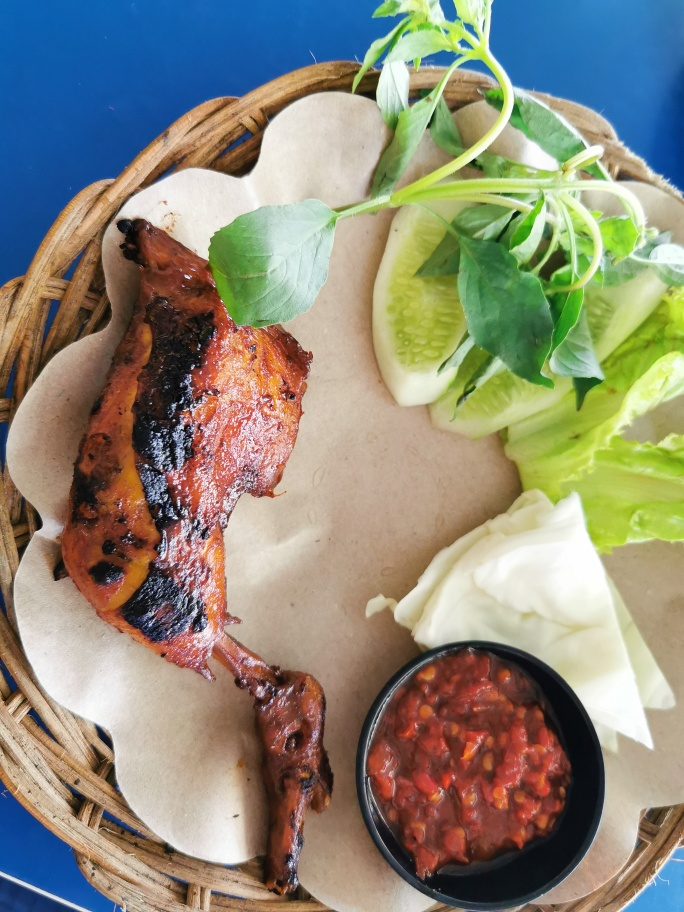ayam bakar: (47, 213, 369, 890)
